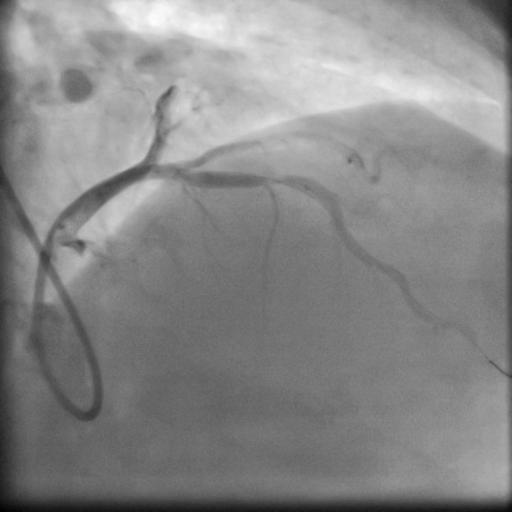Stenosis: (259, 169, 291, 189)
